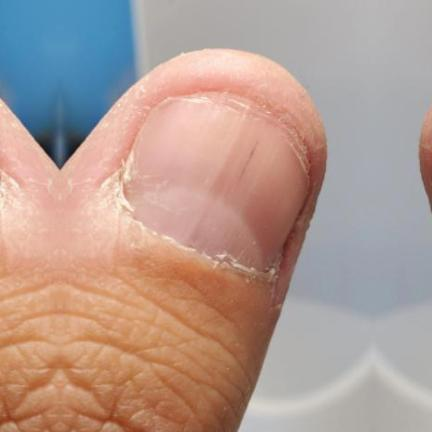Nail: (122, 99, 312, 274)
